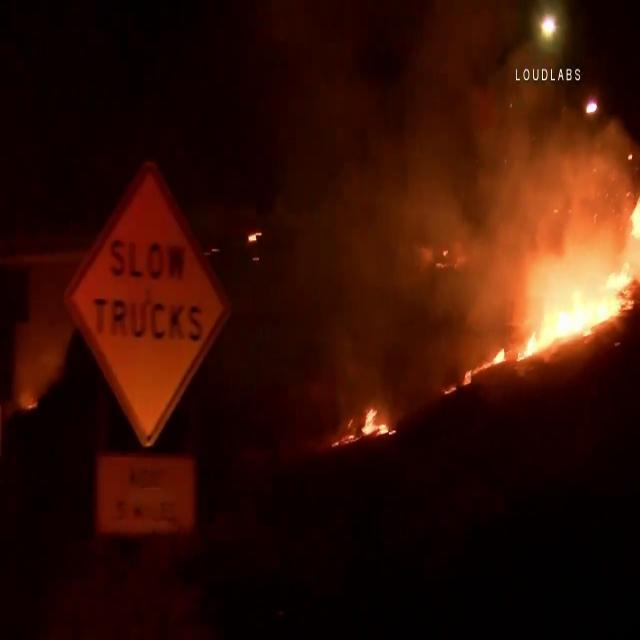Fire: (506, 202, 640, 360), (510, 273, 607, 363), (342, 398, 394, 448)
Smoke: (263, 1, 632, 300)
